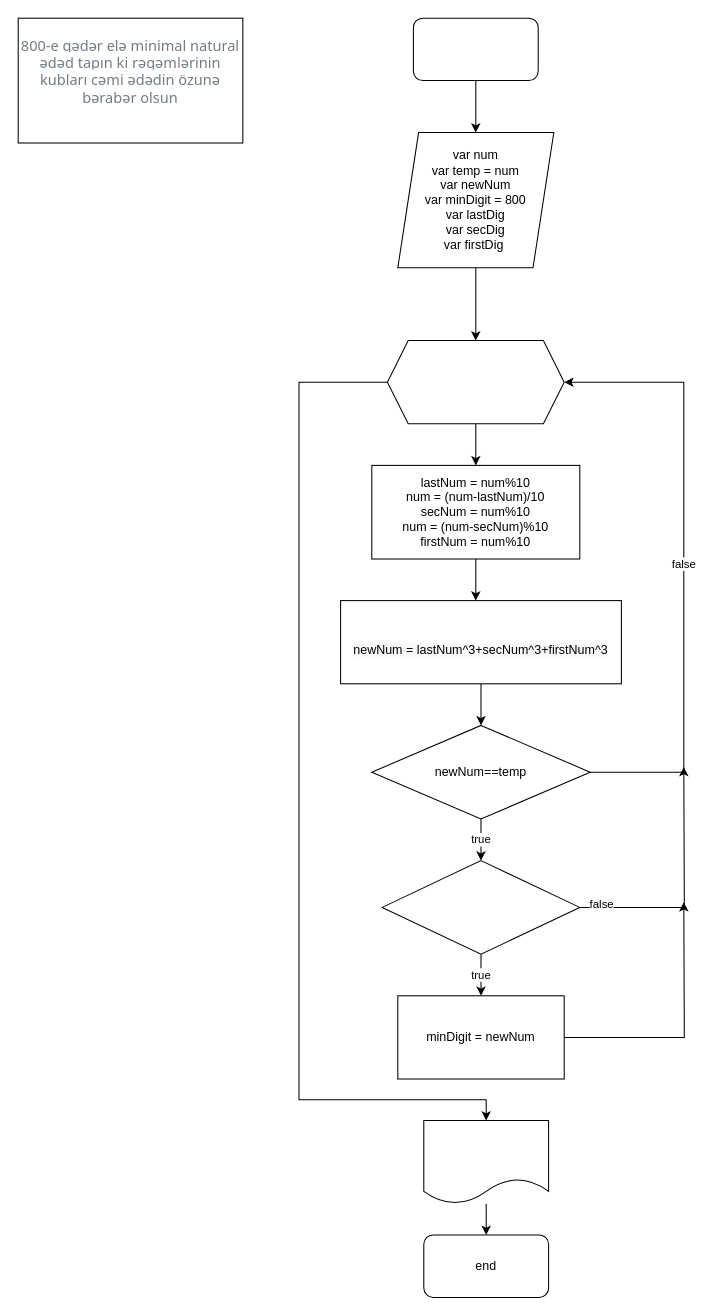
Image size: 713x1316. Some labels were removed from this diagram. The shapes that lost their labels are listed below. From the top down, each one's box as (x1, y1, x2, y2) in pixels, then its label:
(412, 17, 538, 81): start
(386, 340, 564, 424): i = 1; i<800; i++
(381, 860, 580, 954): newNum < minDigit
(423, 1120, 549, 1204): minDigit
